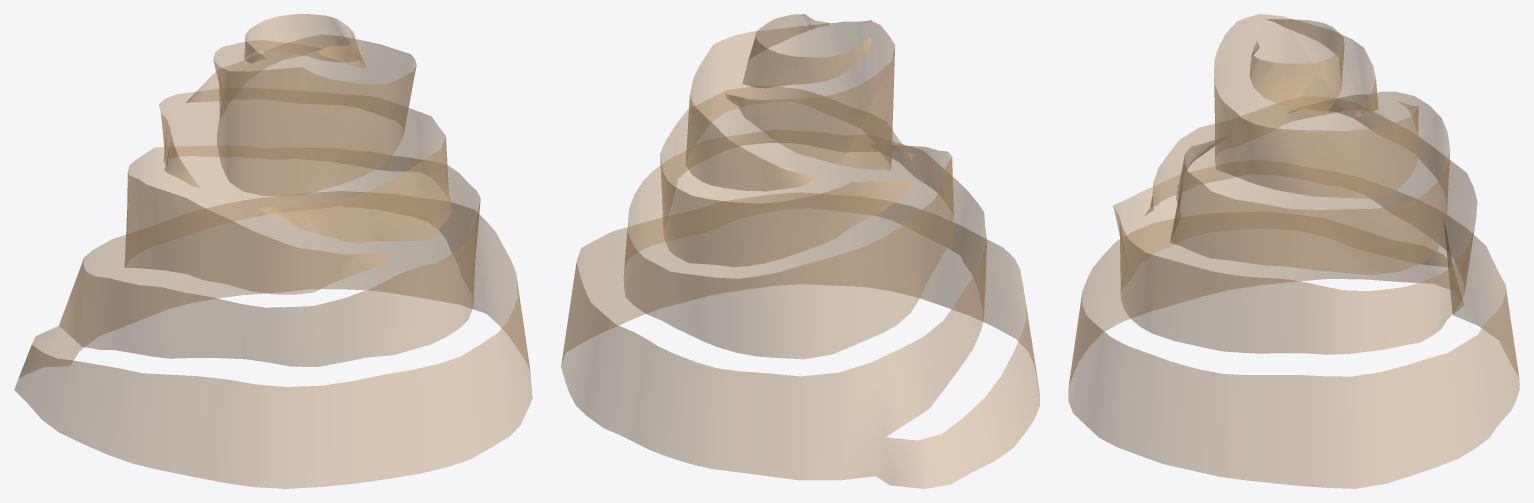
Rendered from Export_Ice_Environment_Tower_Placement.fbx.
3 views of the same model, side by side, from view 1: azimuth 30°, elevation 25°; view 2: azimuth 150°, elevation 25°; view 3: azimuth 270°, elevation 25° (orthographic). The views are drawn at different scales.
Parts seen in each view (by area): view 1: Ice_Level_Tower_Placement; view 2: Ice_Level_Tower_Placement; view 3: Ice_Level_Tower_Placement.
Part boxes in pixels (x1=…): Ice_Level_Tower_Placement: x1=14, y1=14, x2=532, y2=488; Ice_Level_Tower_Placement: x1=561, y1=14, x2=1039, y2=488; Ice_Level_Tower_Placement: x1=1068, y1=14, x2=1519, y2=488.
Bounding box in the file's own units: 32.47 × 24.8 × 29.5.
